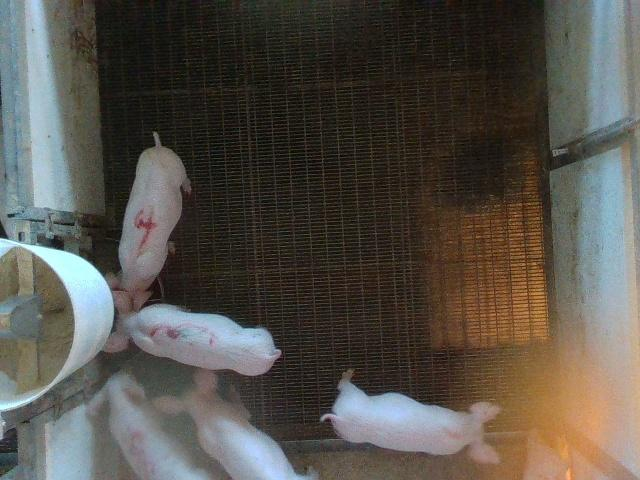pig-3: (106, 132, 191, 311)
